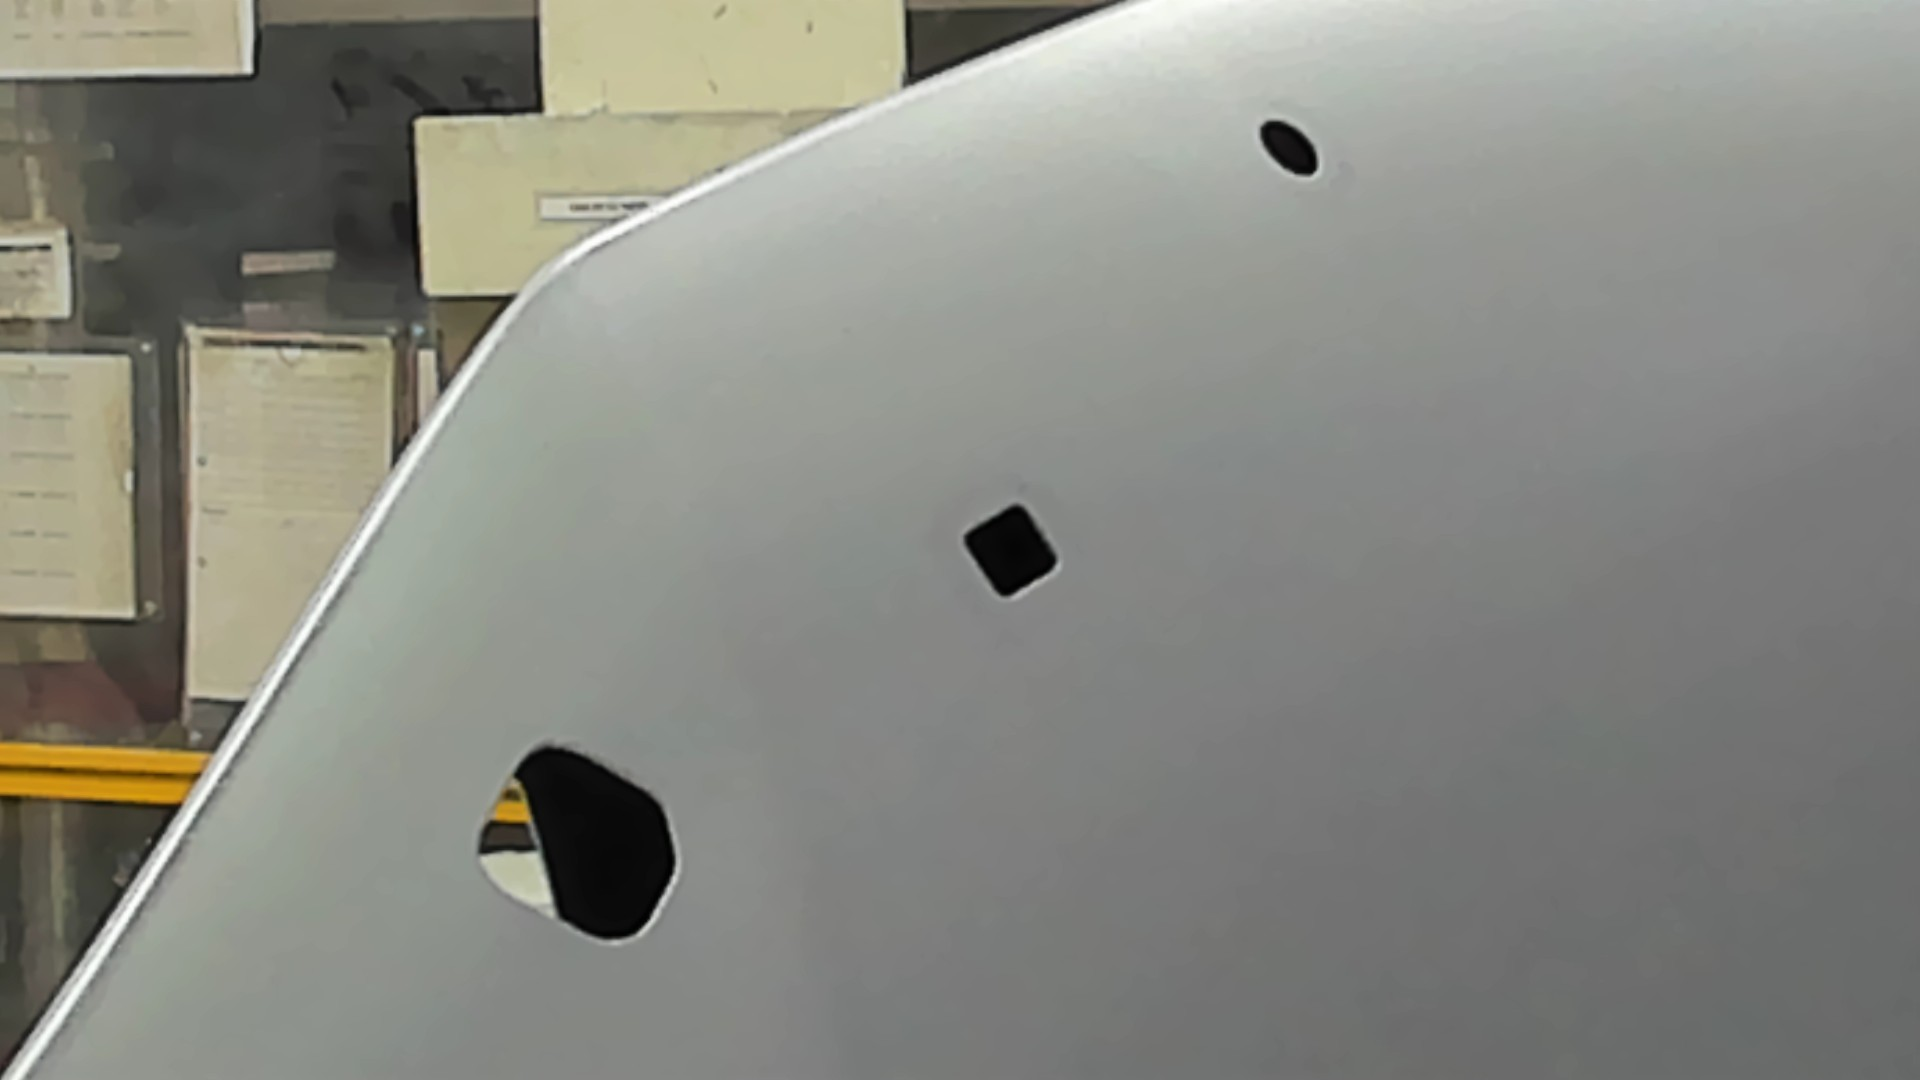chico: (1257, 115, 1323, 179)
grande: (472, 741, 684, 945)
mediano: (957, 501, 1064, 600)
